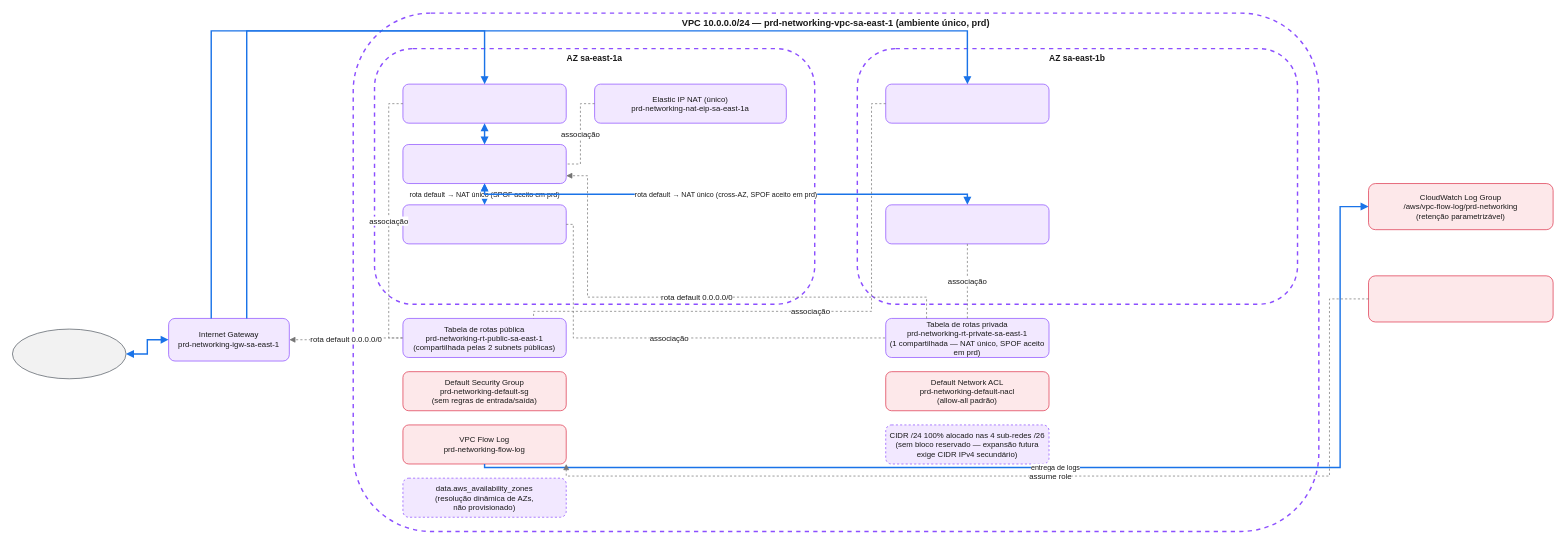
Image size: 1566x544. Some labels were removed from this diagram. The centre of each missing label's shape, as x and y in pixels:
IAM Role Flow Logs prd-networking-flow-logs-role (least privilege): the point at 1460,298
NAT Gateway (único — SPOF aceito em prd) prd-networking-nat-sa-east-1a: the point at 484,164
Subnet privada AZ1 prd-networking-private-sa-east-1a 10.0.0.128/26: the point at 484,224
Subnet privada AZ2 prd-networking-private-sa-east-1b 10.0.0.192/26: the point at 967,224
Subnet pública AZ1 prd-networking-public-sa-east-1a 10.0.0.0/26: the point at 484,103
Subnet pública AZ2 prd-networking-public-sa-east-1b 10.0.0.64/26: the point at 967,103
Usuário / Internet: the point at 69,353
